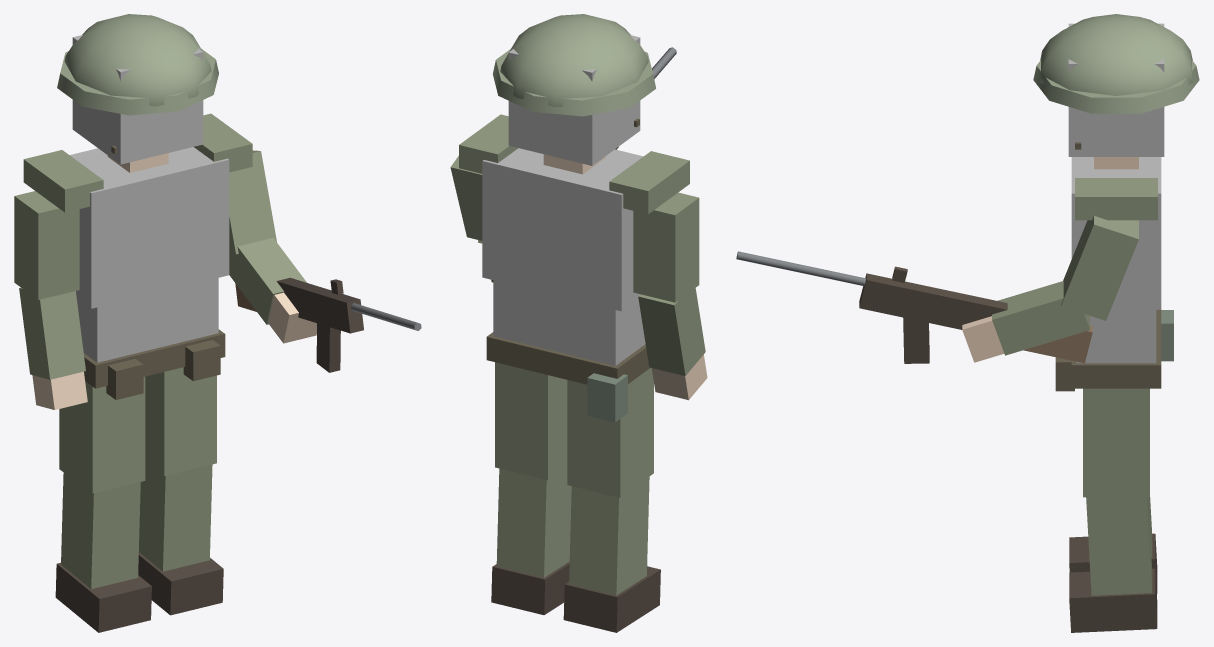
Rendered from referencia-persona.glb.
3 renders of one model, left to right at view 1: azimuth 30°, elevation 25°; view 2: azimuth 150°, elevation 25°; view 3: azimuth 270°, elevation 25°, orthographic.
Visible parts, largest first — view 1: referencia_persona_1m80, object 2, object 5, object 3; view 2: referencia_persona_1m80; view 3: referencia_persona_1m80, object 2, object 4, object 5, object 3.
Boxes of the visible parts, box(x1,y1,x2,y2) form: referencia_persona_1m80: box(14, 14, 316, 632); object 2: box(276, 277, 363, 333); object 5: box(316, 323, 340, 372); object 3: box(351, 303, 421, 330); referencia_persona_1m80: box(450, 14, 707, 632); referencia_persona_1m80: box(962, 14, 1199, 632); object 2: box(859, 273, 1007, 329); object 4: box(1023, 325, 1092, 363); object 5: box(903, 317, 929, 363); object 3: box(736, 251, 865, 285).
Bounding box in the file's own units: 0.81 × 2 × 1.45.
